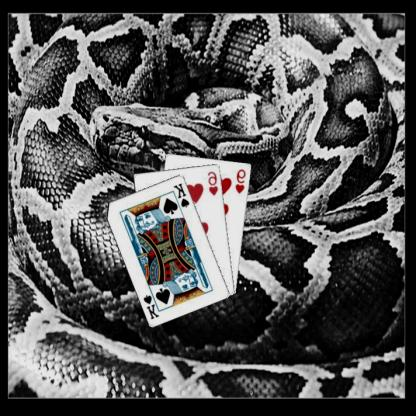6H: (207, 168, 221, 196)
9H: (235, 166, 249, 194)
KS: (143, 288, 163, 320), (173, 180, 192, 209)
